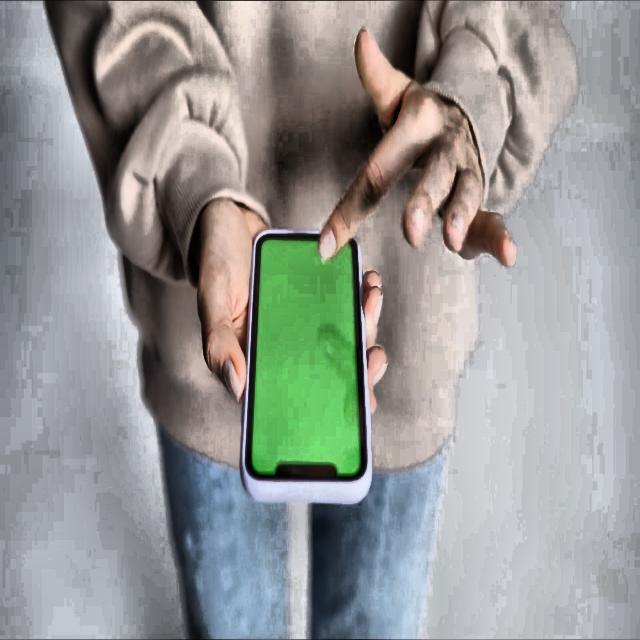Phone: (238, 226, 374, 504)
